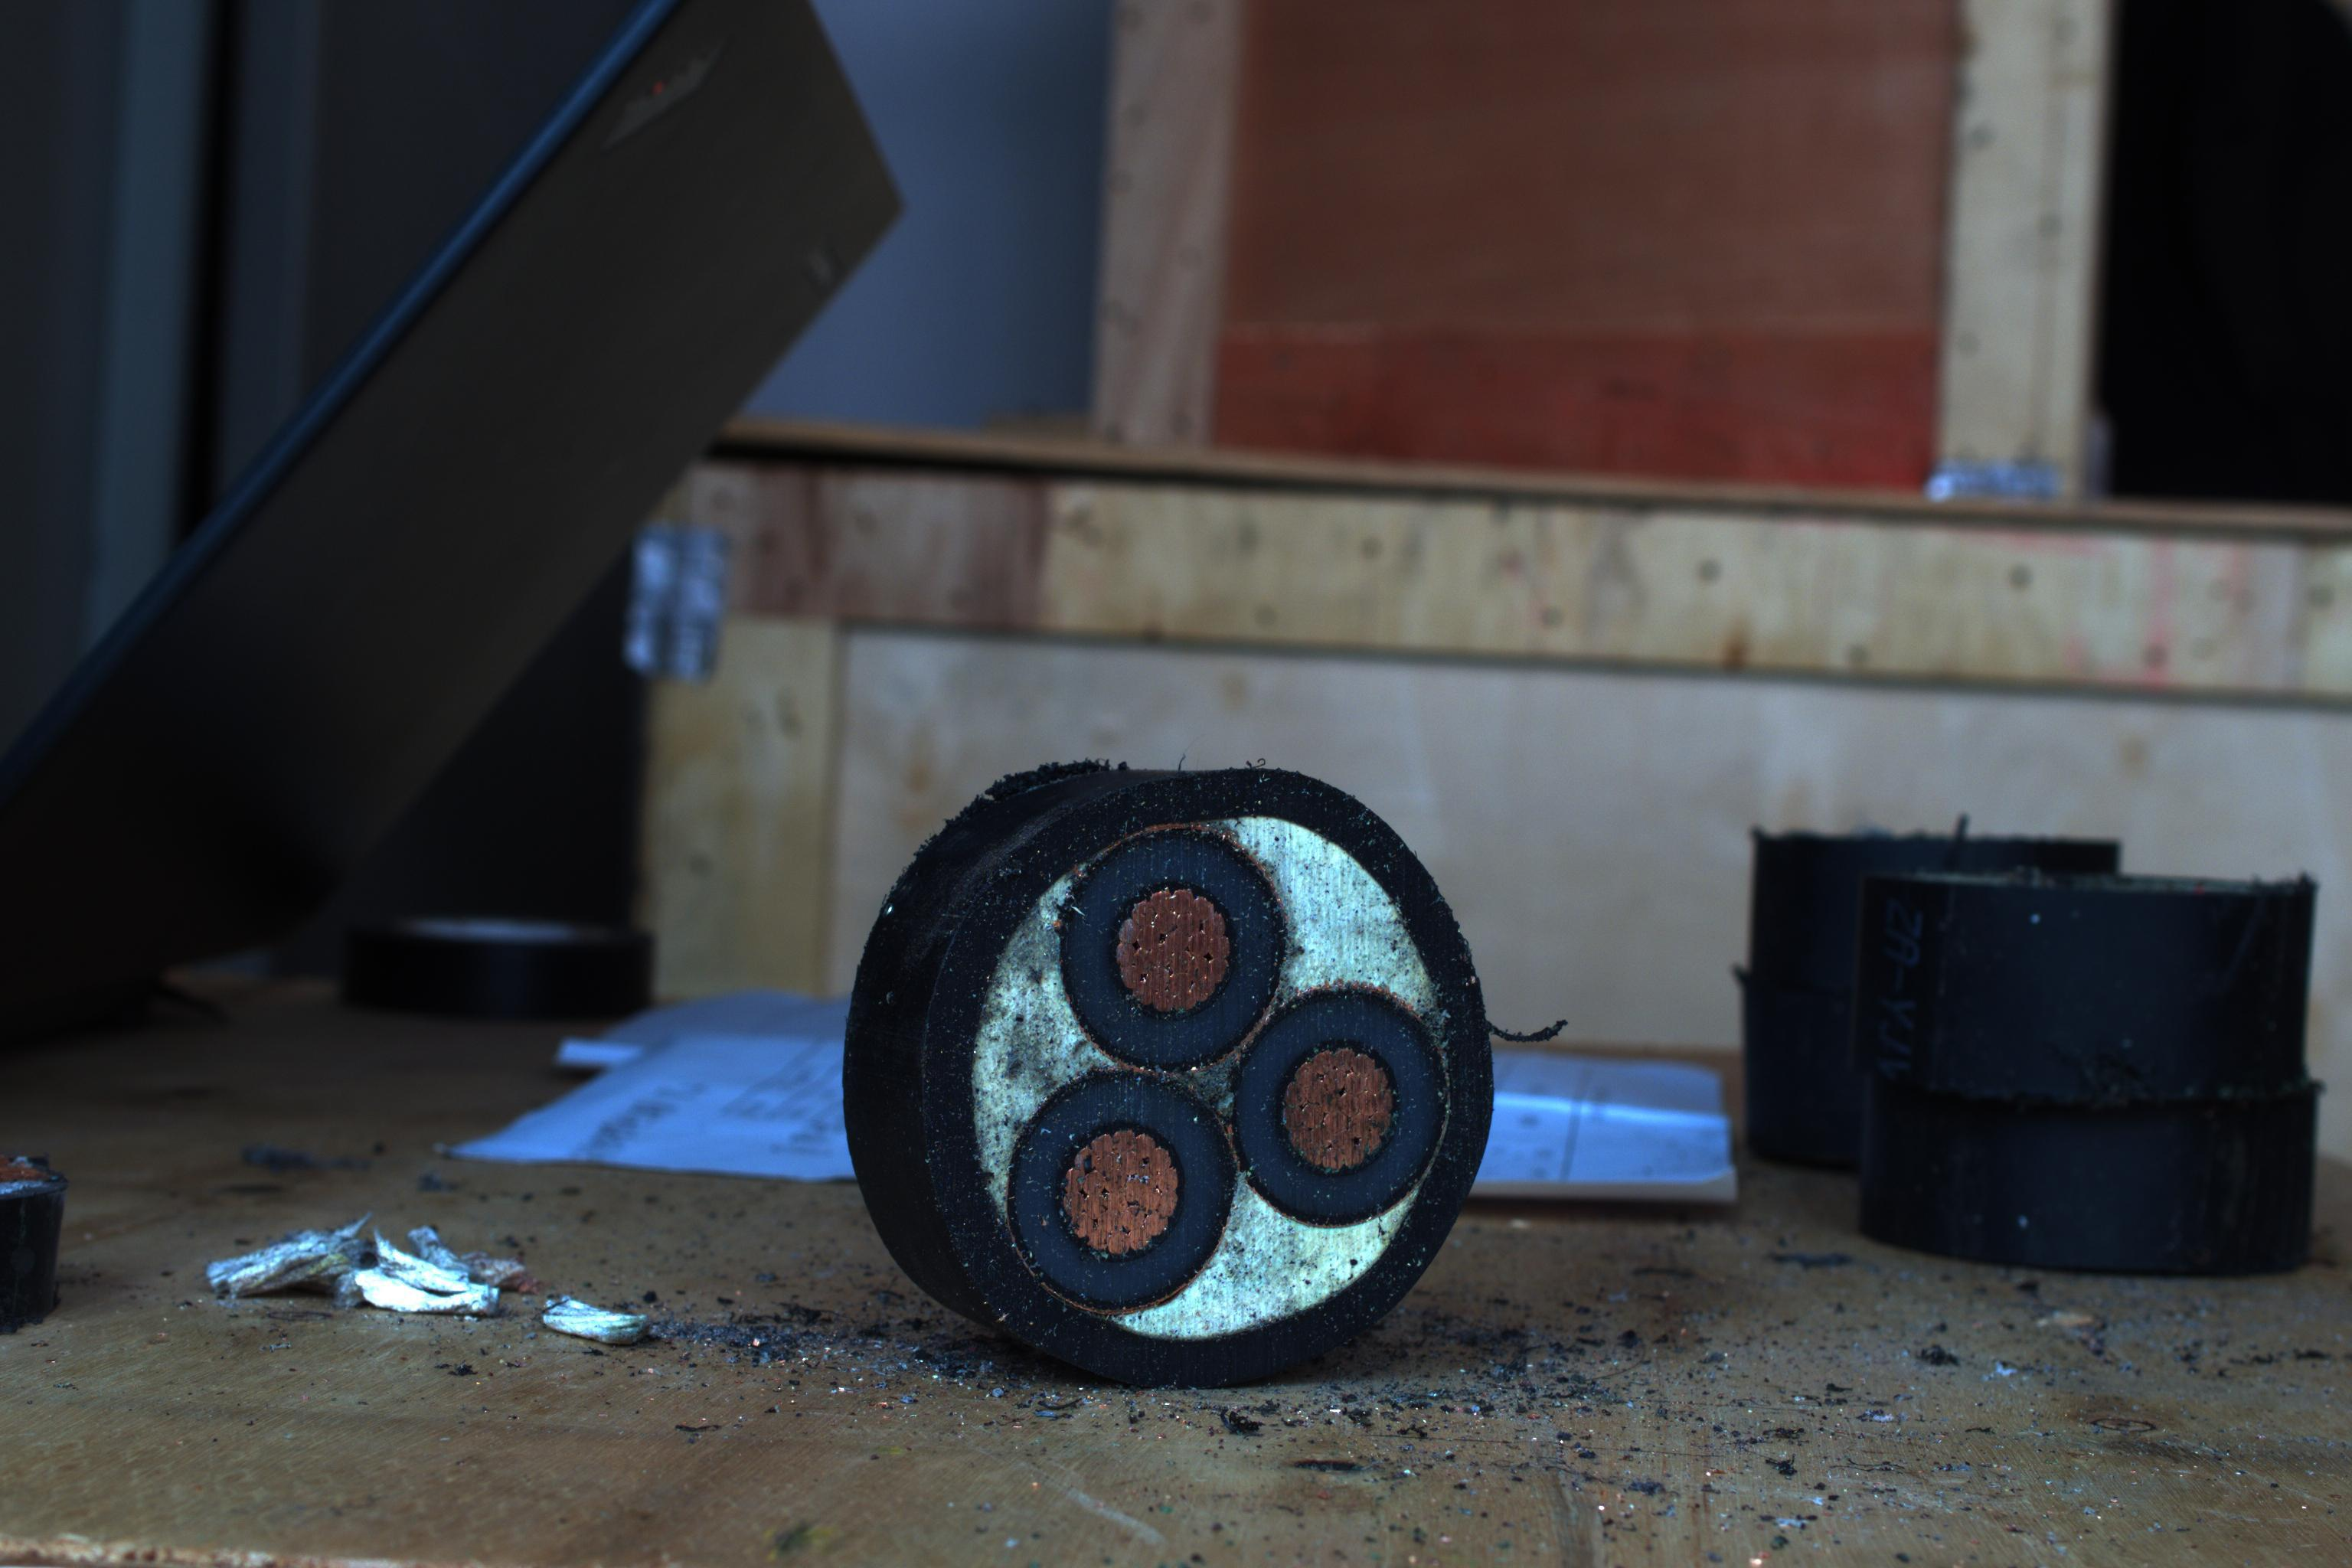ZA_YJV_8.7_10kV_3x120: (905, 772, 1494, 1398)
